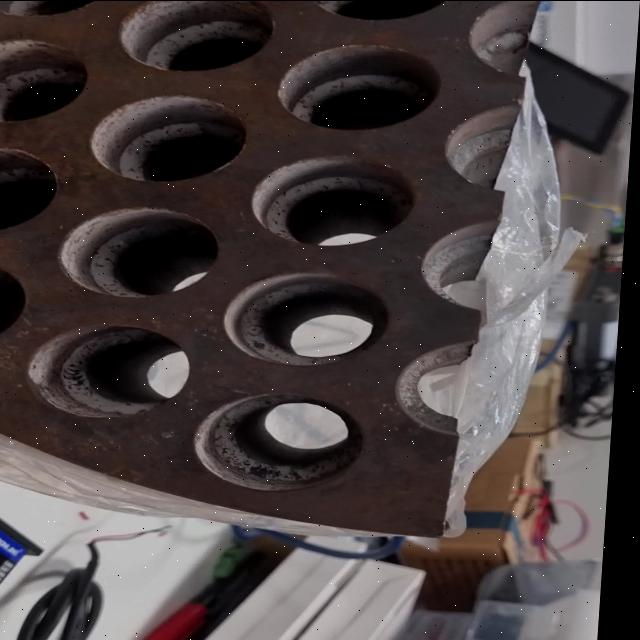Hole: (199, 393, 378, 491), (226, 270, 399, 366), (30, 324, 197, 418), (251, 155, 422, 245), (60, 206, 227, 296), (277, 43, 445, 129), (89, 94, 252, 180), (117, 1, 277, 71), (0, 38, 95, 122), (0, 146, 65, 233)
